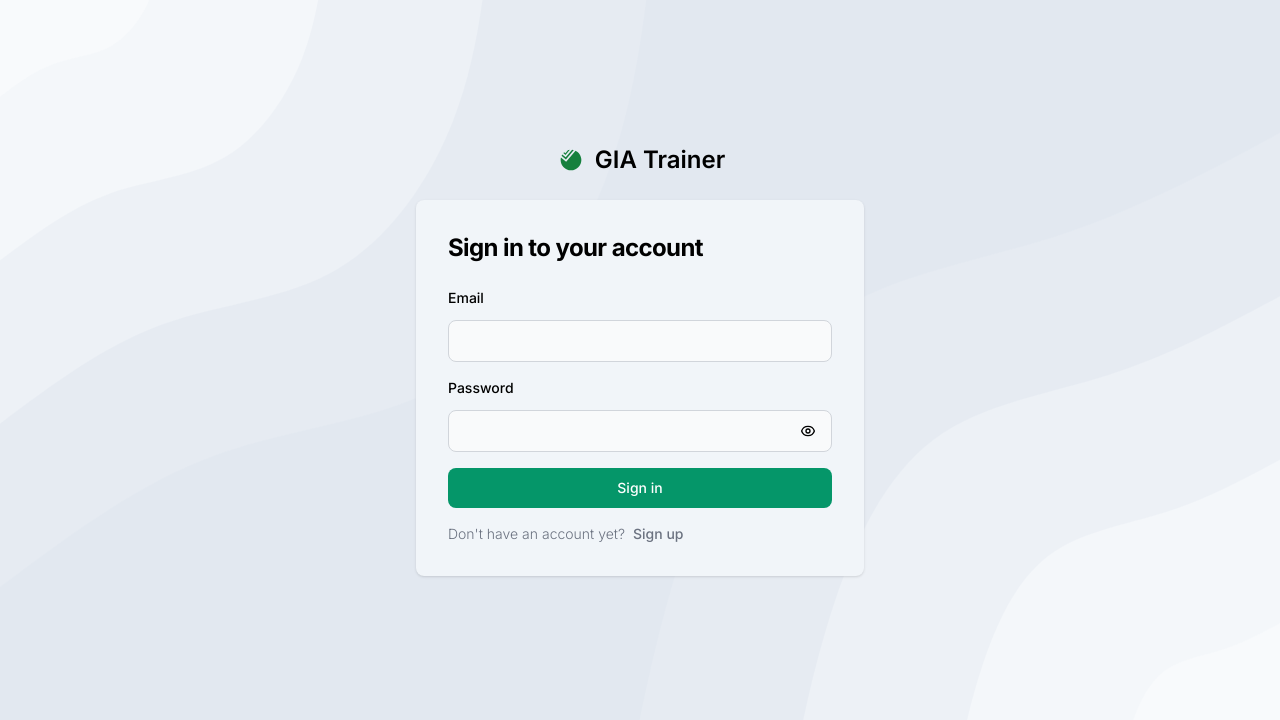
Test: SignIn › Sign-in view changes to sign up view
Expected: the heading "create an account" is not shown
Click the link "Sign up".
click(658, 534)  # box [633,525,684,542]
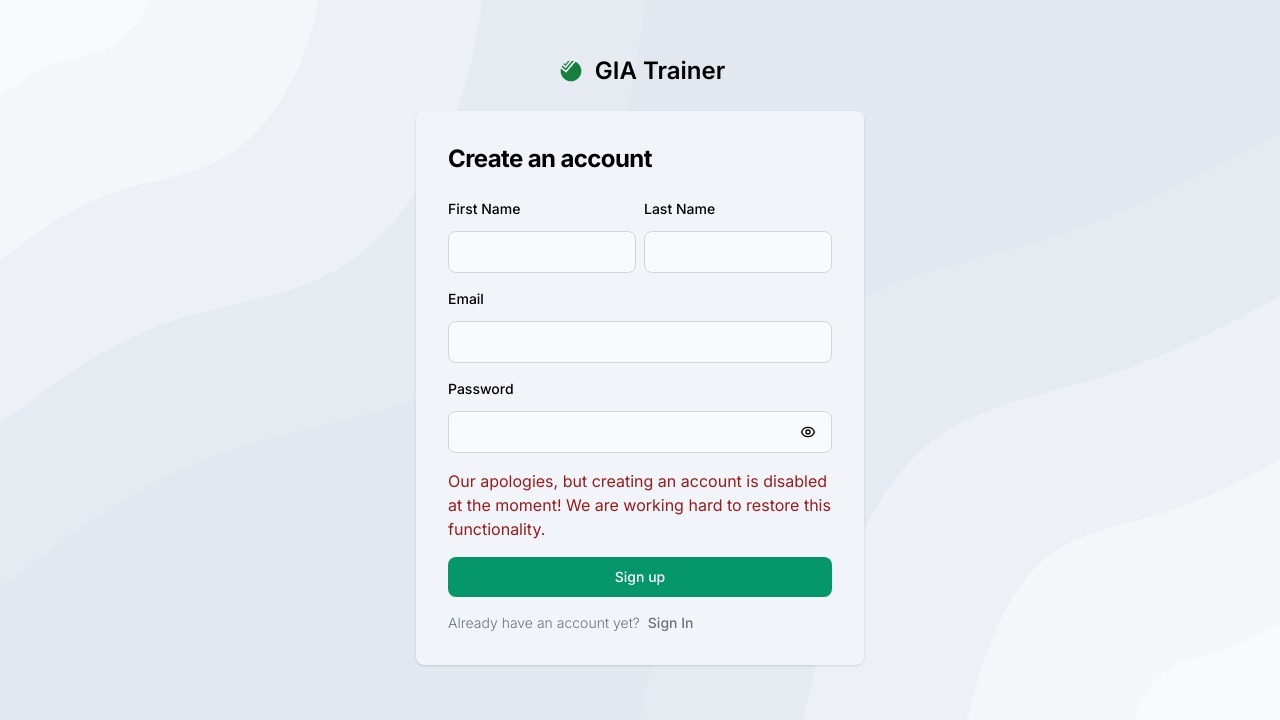
Expected: the heading "Create an account" is shown, [448,144,652,173]
